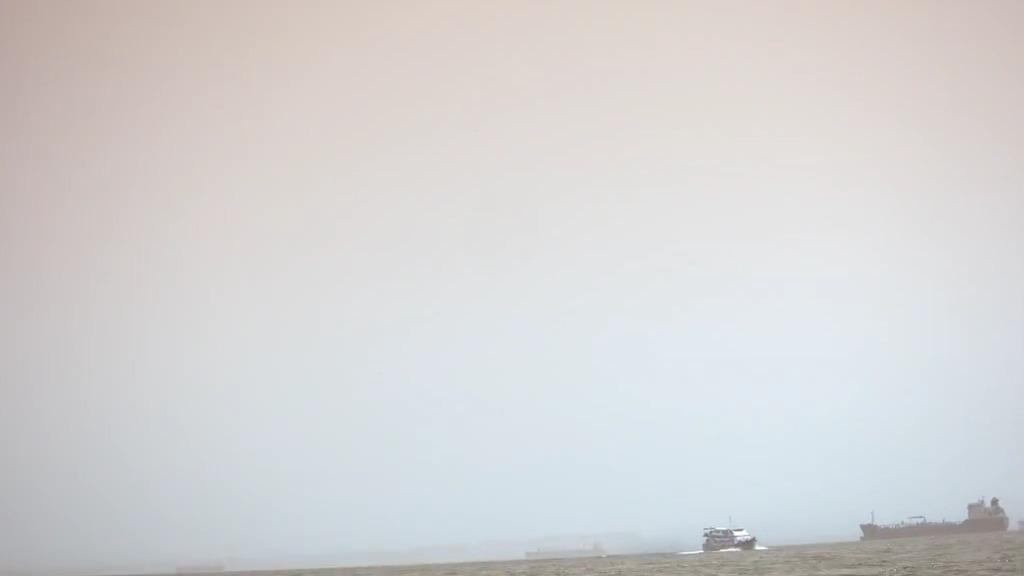PassengerShip: (699, 519, 761, 559)
